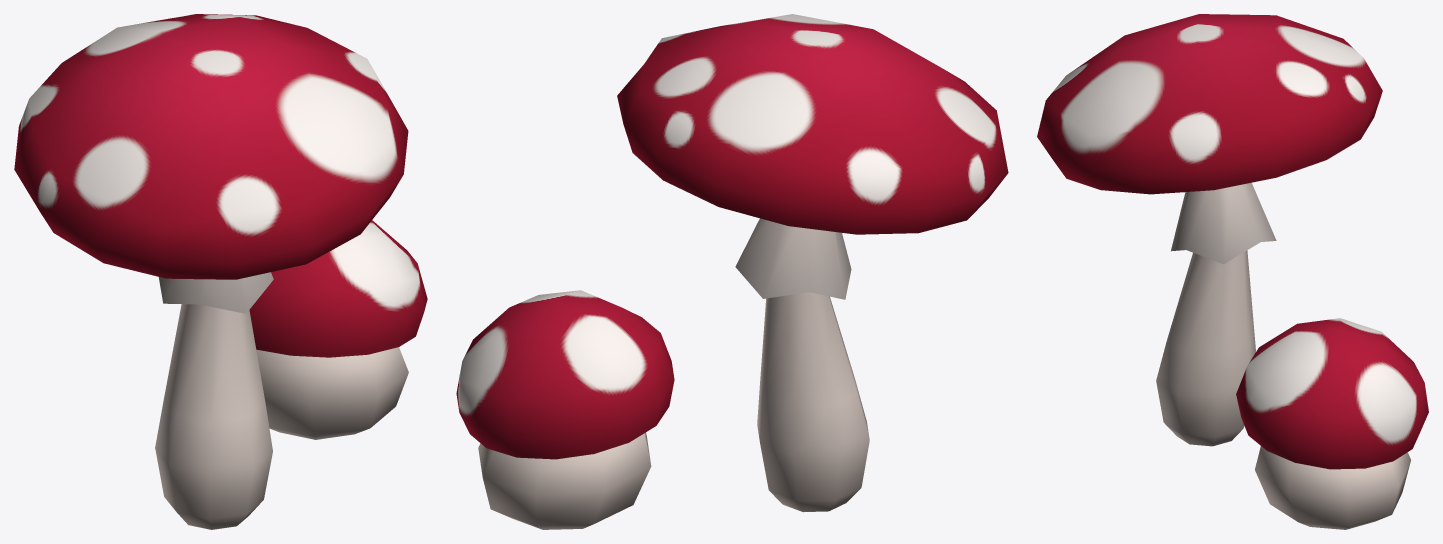
File: Fly_Agaric_Group_1.fbx
3 renders of one model, left to right at view 1: azimuth 30°, elevation 25°; view 2: azimuth 150°, elevation 25°; view 3: azimuth 270°, elevation 25°, orthographic. The views are drawn at different scales.
Parts seen in each view (by area): view 1: Fly_Agaric_Group_1; view 2: Fly_Agaric_Group_1; view 3: Fly_Agaric_Group_1.
Boxes of the visible parts, x1=… form: Fly_Agaric_Group_1: x1=14, y1=14, x2=427, y2=529; Fly_Agaric_Group_1: x1=456, y1=14, x2=1008, y2=529; Fly_Agaric_Group_1: x1=1037, y1=14, x2=1428, y2=529.
Bounding box in the file's own units: 18.72 × 18.55 × 16.35.
